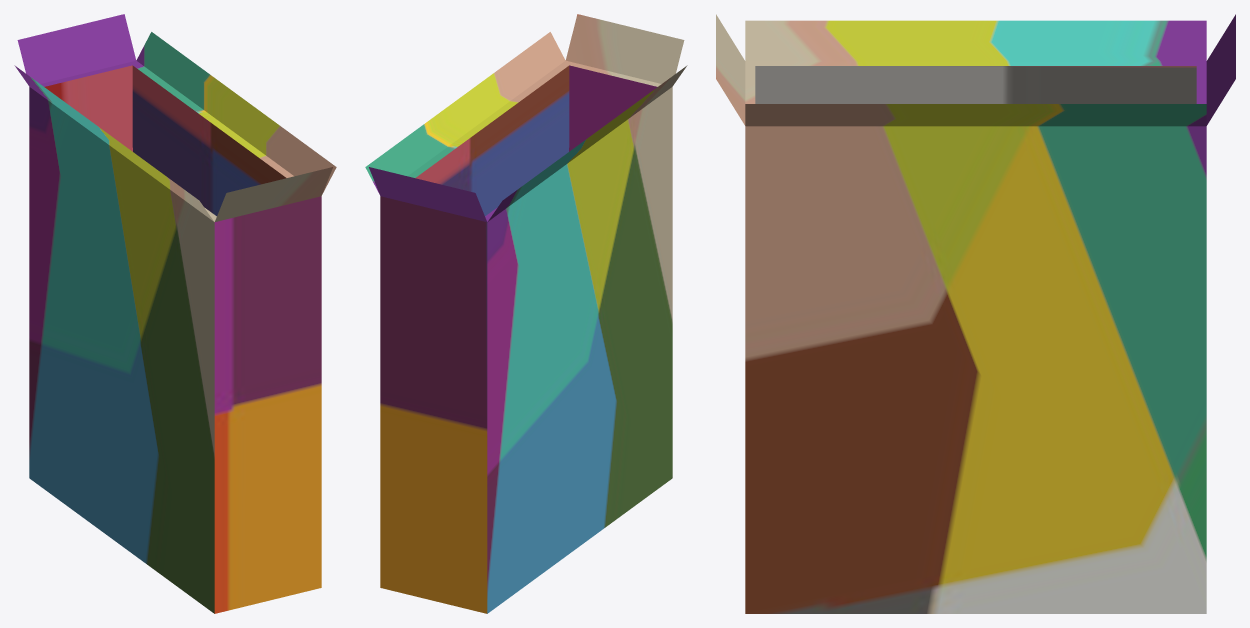
File: Cereal_box.FBX
3 renders of one model, left to right at view 1: azimuth 30°, elevation 25°; view 2: azimuth 150°, elevation 25°; view 3: azimuth 270°, elevation 25°, orthographic. The views are drawn at different scales.
Parts seen in each view (by area): view 1: Cereal_Box; view 2: Cereal_Box; view 3: Cereal_Box.
Part boxes in pixels (x1,y1,x2,y2): Cereal_Box: [14, 14, 336, 613]; Cereal_Box: [365, 14, 687, 613]; Cereal_Box: [716, 14, 1235, 613].
Size of the model in its own units: 12.83 by 38.39 by 33.82.
